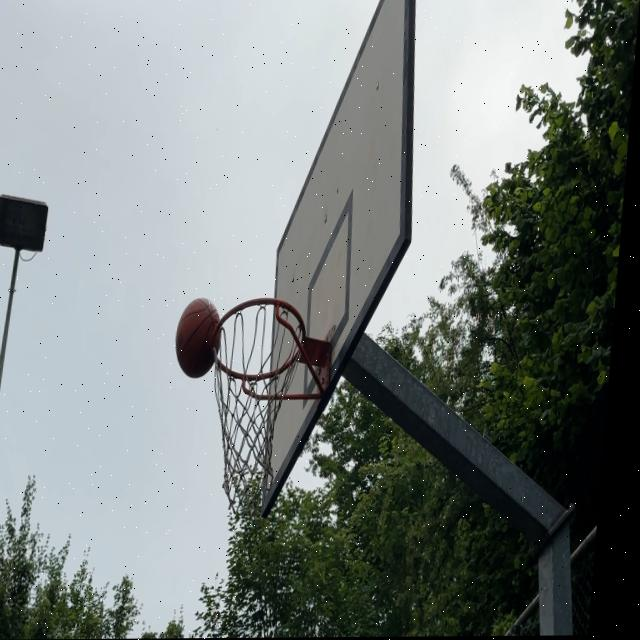rebound_hit: (172, 296, 225, 381)
